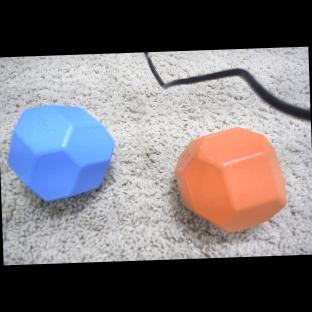V5_BLUE: (8, 104, 116, 202)
V5_RED: (174, 125, 292, 236)
